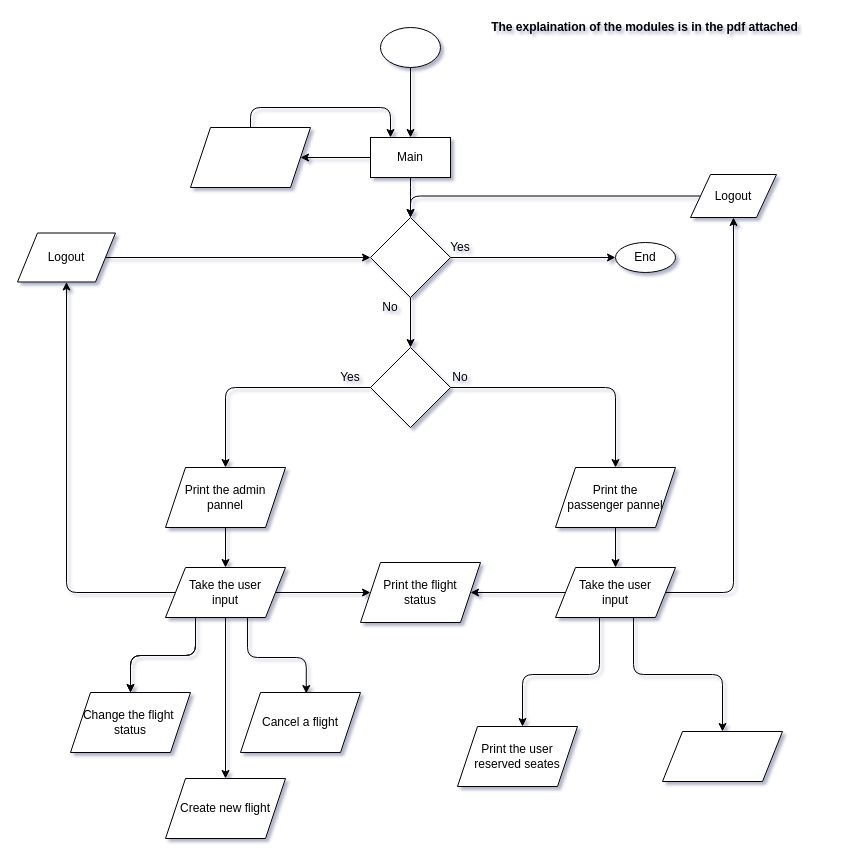
Image size: 859x862. Some labels were removed from this diagram. Here are the shapes that lost their labels. From the top down, the centre of each, then its label:
(x=410, y=47): Start
(x=250, y=157): Login id input
(x=410, y=257): Is login id 0?
(x=410, y=387): Is login id <100?
(x=722, y=756): Reserve seat module
